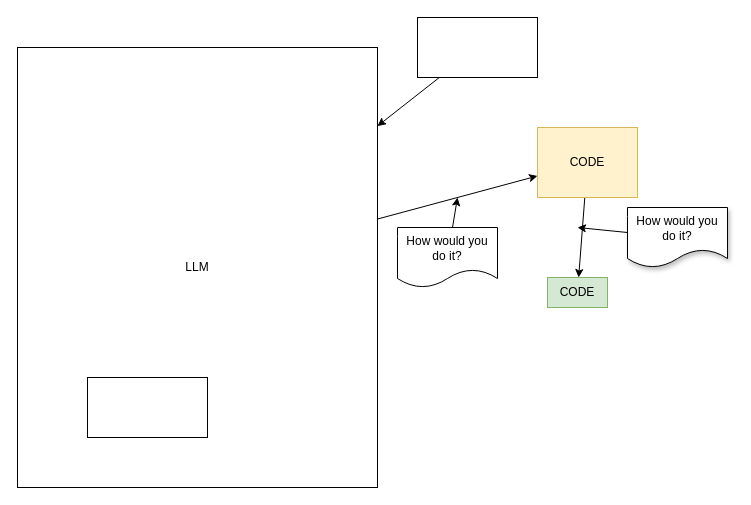
The diagram is 751 pixels wide and 505 high, and some of its shapes have lost their labels. The shapes that lost their labels are listed below. From the top down, each one's centre as x and y in pixels, then its label:
At (477,47): "Re-Insurance".
At (147,407): "Pizza Recipes".
